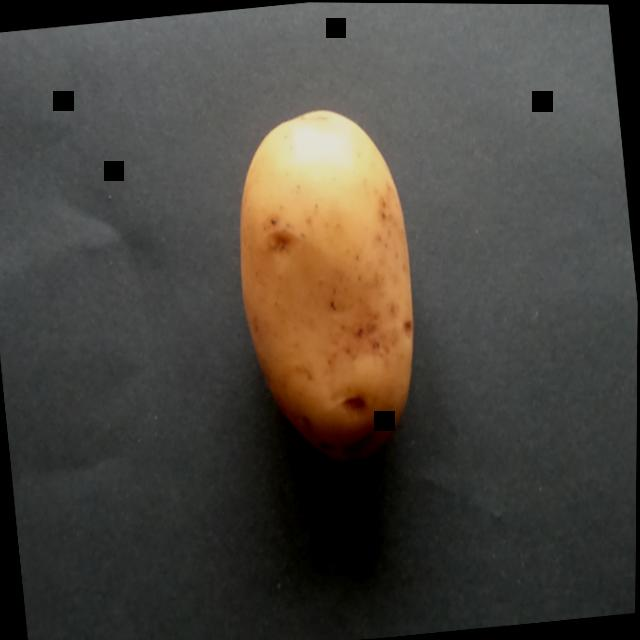Potato: (181, 62, 476, 513)
